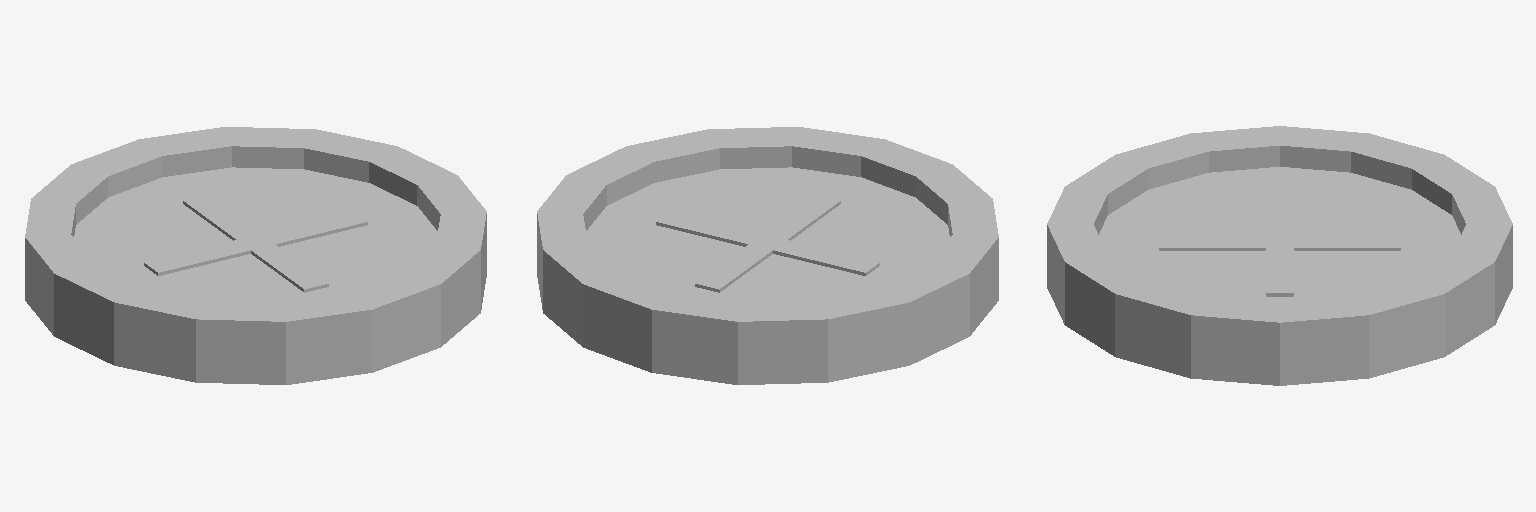
The model's file is coin-plus.obj.
3 views of the same model, side by side, from view 1: azimuth 30°, elevation 25°; view 2: azimuth 150°, elevation 25°; view 3: azimuth 270°, elevation 25° (orthographic).
Visible parts, largest first — view 1: coin_Cylinder; view 2: coin_Cylinder; view 3: coin_Cylinder.
Part boxes in pixels (x1,y1,x2,y2): coin_Cylinder: (25, 127, 486, 384); coin_Cylinder: (537, 127, 998, 384); coin_Cylinder: (1047, 126, 1512, 385).
Bounding box in the file's own units: 20 × 3 × 20.